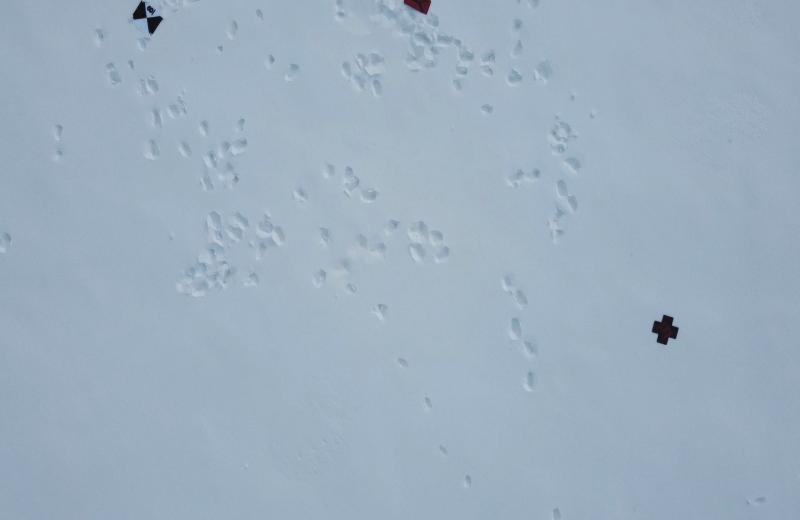Cross: (651, 309, 680, 345)
